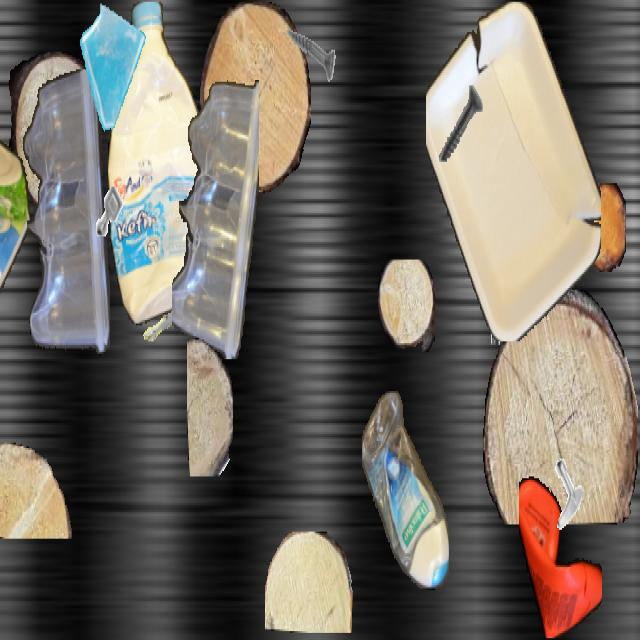glass: (76, 2, 150, 133)
metal: (429, 70, 491, 180), (126, 271, 184, 374), (278, 2, 336, 105), (483, 261, 529, 343), (543, 455, 587, 533), (88, 174, 130, 249)
plastic: (426, 2, 600, 340), (108, 2, 210, 325), (20, 69, 110, 361), (172, 73, 258, 357), (362, 391, 448, 590), (519, 471, 601, 638), (0, 124, 30, 313)
wood: (483, 290, 637, 524), (200, 2, 310, 194), (6, 52, 102, 212), (466, 166, 558, 300), (265, 532, 353, 631), (0, 442, 75, 538), (187, 338, 233, 476), (378, 260, 434, 352), (583, 183, 625, 272)
